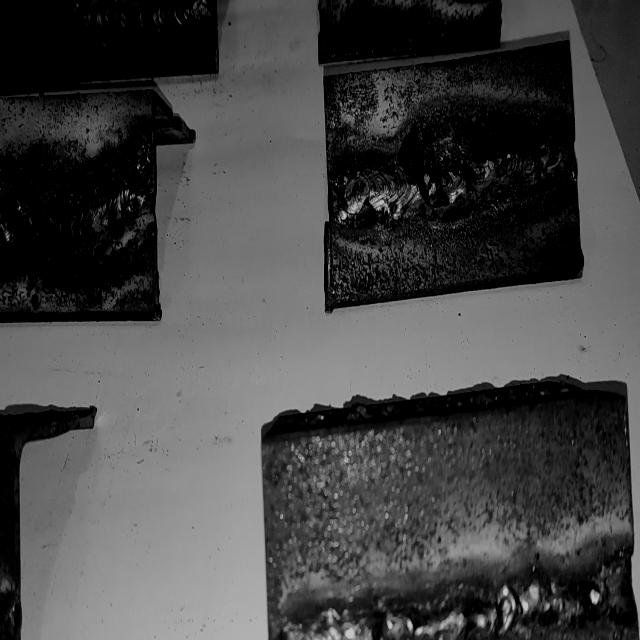Bad Weld: (269, 553, 635, 640), (327, 135, 573, 225), (0, 162, 150, 263)
Defect: (417, 115, 477, 234), (583, 548, 636, 634), (1, 202, 65, 250), (125, 125, 155, 208)
